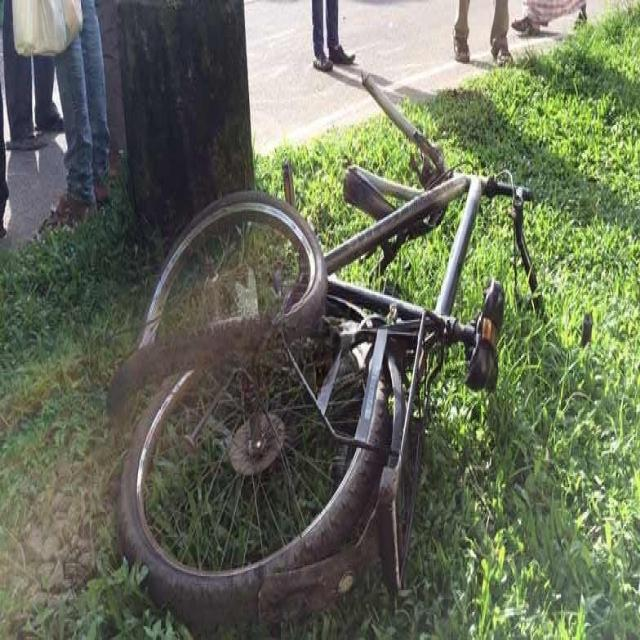accident: (110, 74, 539, 631)
